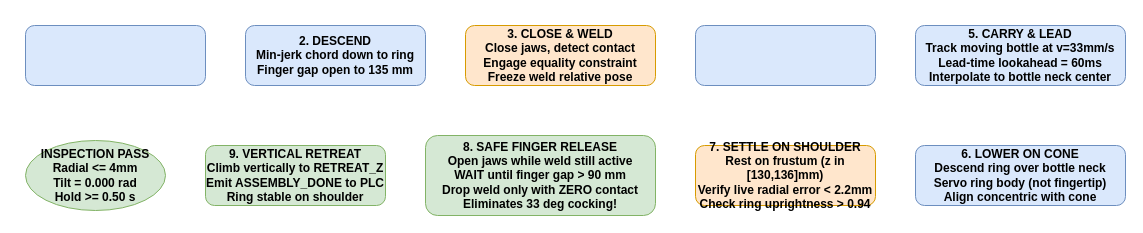
The diagram is 1143 pixels wide and 233 high, and some of its shapes have lost their labels. Each missing label, with the centre of its shape:
"1. HOVER Position hand 5cm above ring Wrist vertical (cosine > 0.98)" goes at (115,55).
"4. LIFT Straight vertical climb Raise ring clear of kit tray (Z_ring >= 0.93m)" goes at (785,55).
